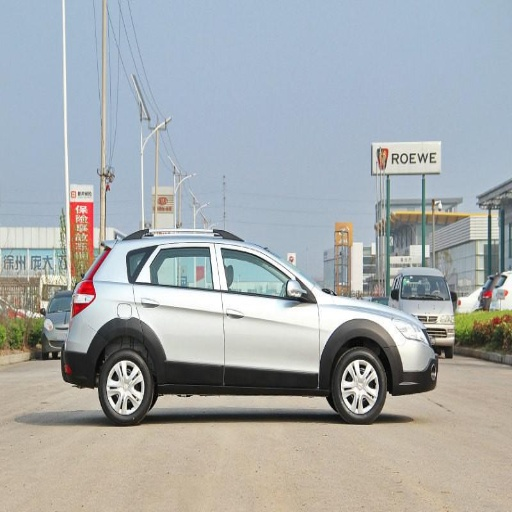back_right_door: (134, 241, 222, 382)
front_right_door: (218, 243, 319, 383)
